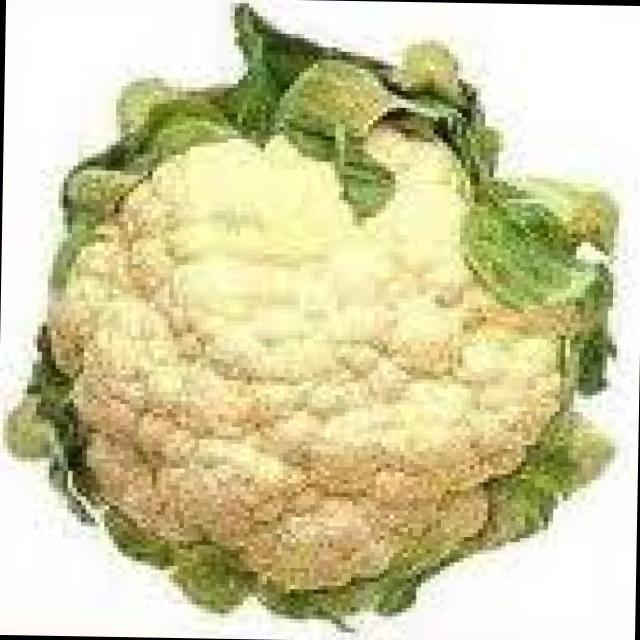Cauliflower: (13, 0, 636, 633)
